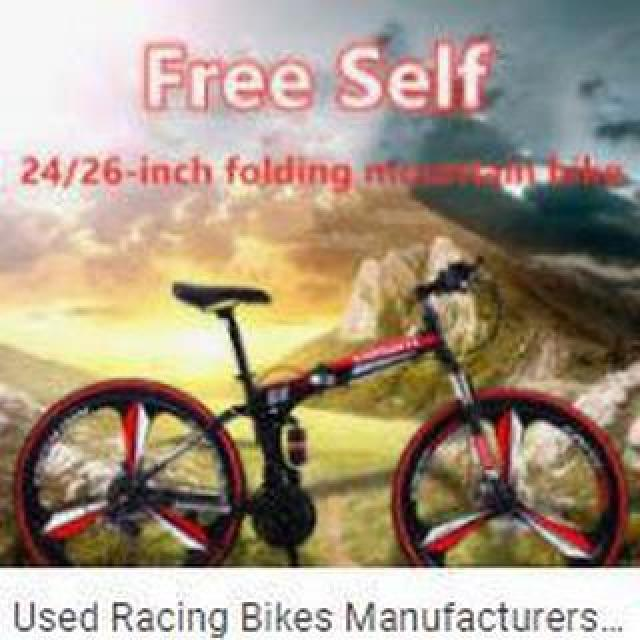Person: (19, 265, 631, 565)
